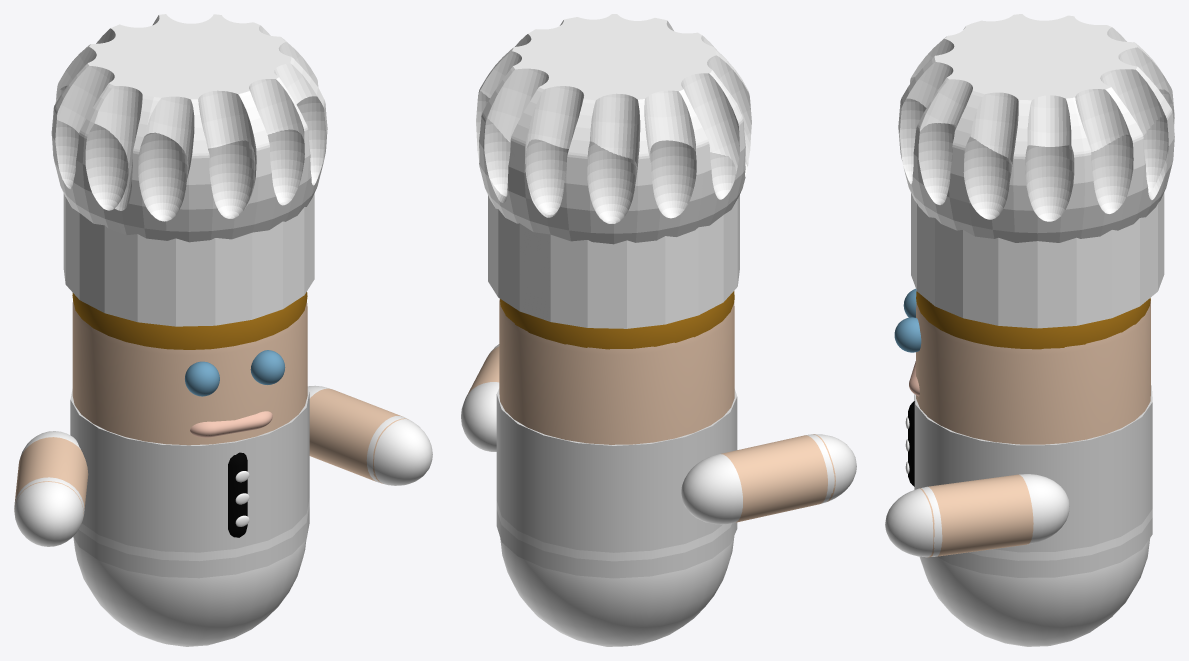
The model's file is chef.fbx.
The picture shows the model from 3 angles, left to right: view 1: azimuth 30°, elevation 25°; view 2: azimuth 150°, elevation 25°; view 3: azimuth 270°, elevation 25°; orthographic projection.
Visible parts, largest first — view 1: Object.001, Shirt.003, Body.004, Shorts, Hair.003, LeftArm, Shirt_Hem, RightGlove, LeftGlove, RightArm, Lower_Shirt, Buttons.001 (+3 smaller); view 2: Object.001, Shirt.003, Body.004, Shorts, RightArm, Hair.003, Shirt_Hem, RightSleeve, Lower_Shirt, LeftSleeve, RightGlove, LeftArm; view 3: Object.001, Body.004, Shirt.003, Shorts, LeftArm, Hair.003, Shirt_Hem, LeftGlove, LeftSleeve, Lower_Shirt, LeftEye.004, Buttons.001.
Boxes of the visible parts, x1,y1,x2,y2 form: Object.001: [51, 14, 327, 326]; Shirt.003: [70, 389, 309, 552]; Body.004: [72, 301, 307, 445]; Shorts: [73, 537, 306, 646]; Hair.003: [72, 292, 307, 349]; LeftArm: [309, 388, 408, 483]; Shirt_Hem: [73, 507, 309, 578]; RightGlove: [14, 477, 84, 546]; LeftGlove: [366, 416, 432, 485]; RightArm: [14, 437, 88, 513]; Lower_Shirt: [79, 498, 309, 561]; Buttons.001: [228, 452, 247, 537]; Object.001: [476, 14, 751, 328]; Shirt.003: [496, 388, 737, 552]; Body.004: [499, 299, 734, 444]; Shorts: [500, 536, 734, 646]; RightArm: [721, 434, 835, 522]; Hair.003: [500, 291, 734, 349]; Shirt_Hem: [496, 510, 737, 578]; RightSleeve: [681, 454, 742, 524]; Lower_Shirt: [496, 501, 731, 561]; LeftSleeve: [461, 382, 499, 451]; RightGlove: [806, 434, 856, 503]; LeftArm: [466, 345, 499, 396]; Object.001: [898, 14, 1174, 328]; Body.004: [916, 299, 1150, 444]; Shirt.003: [914, 385, 1152, 552]; Shorts: [919, 538, 1150, 646]; LeftArm: [919, 474, 1033, 557]; Hair.003: [916, 291, 1150, 349]; Shirt_Hem: [937, 518, 1152, 577]; LeftGlove: [885, 486, 942, 557]; LeftSleeve: [1019, 474, 1069, 544]; Lower_Shirt: [969, 509, 1152, 560]; LeftEye.004: [894, 317, 921, 352]; Buttons.001: [908, 401, 914, 486].
Size of the model in its own units: 188 by 271 by 123.
